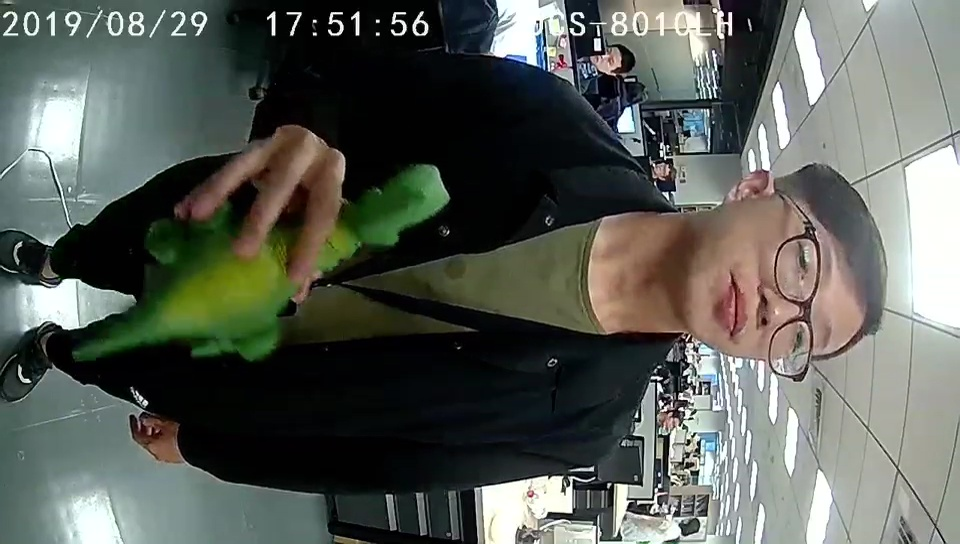rex: (143, 163, 449, 362)
